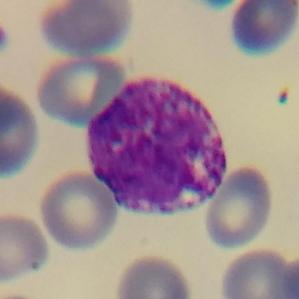Basophil: (76, 68, 239, 224)
Platelets: (183, 0, 249, 11), (0, 22, 12, 55)
RBC: (32, 52, 127, 128), (35, 169, 120, 251), (202, 162, 276, 250), (34, 0, 136, 57), (225, 0, 299, 59), (0, 82, 43, 183), (218, 245, 296, 299), (112, 251, 194, 299), (0, 210, 52, 285), (277, 253, 299, 299)
